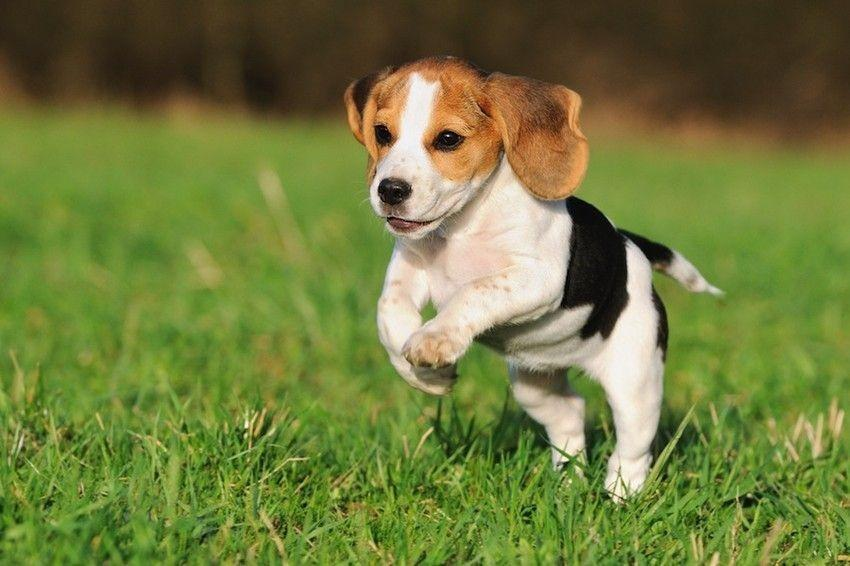puppy-dog: (341, 53, 727, 504)
